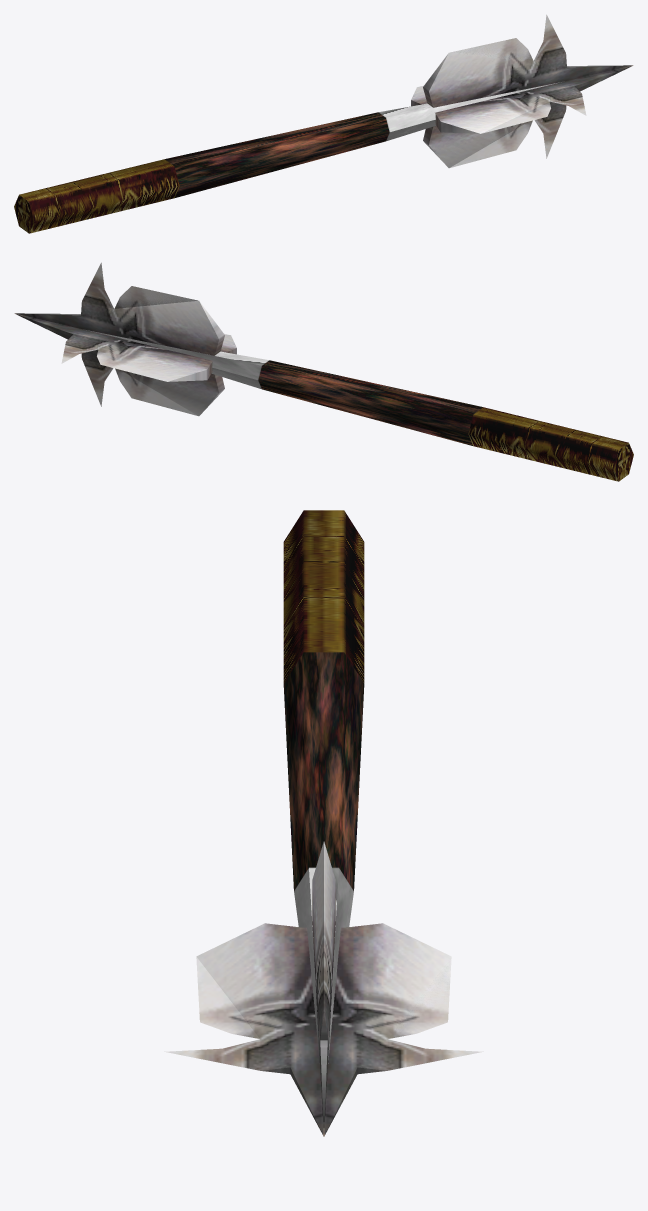
3 renders of one model, top to bottom at view 1: azimuth 30°, elevation 25°; view 2: azimuth 150°, elevation 25°; view 3: azimuth 270°, elevation 25°, orthographic. The views are drawn at different scales.
Visible parts, largest first — view 1: IT10604_DMSPRITEDEF_node; view 2: IT10604_DMSPRITEDEF_node; view 3: IT10604_DMSPRITEDEF_node.
Boxes of the visible parts, <box> form: IT10604_DMSPRITEDEF_node: <box>14,14,633,233</box>; IT10604_DMSPRITEDEF_node: <box>14,262,633,481</box>; IT10604_DMSPRITEDEF_node: <box>164,510,483,1136</box>.
Size of the model in its own units: 2.1 by 0.4761 by 0.4761.
Materials: 4 (4 with a texture image).
